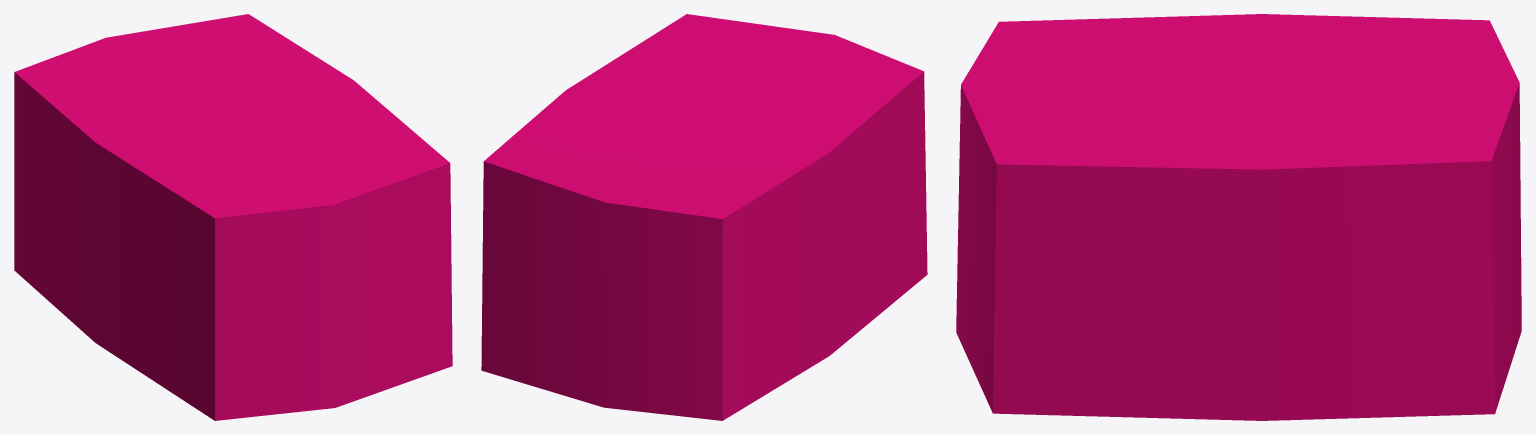
Rendered from Rock_Cube_01_B.fbx.
3 renders of one model, left to right at view 1: azimuth 30°, elevation 25°; view 2: azimuth 150°, elevation 25°; view 3: azimuth 270°, elevation 25°, orthographic. The views are drawn at different scales.
Visible parts, largest first — view 1: Rock_Cube_01_B; view 2: Rock_Cube_01_B; view 3: Rock_Cube_01_B.
Boxes of the visible parts, box(x1,y1,x2,y2) form: Rock_Cube_01_B: box(14, 14, 452, 420); Rock_Cube_01_B: box(481, 14, 927, 420); Rock_Cube_01_B: box(956, 14, 1521, 420).
Size of the model in its own units: 30.8 by 23.26 by 47.21.
